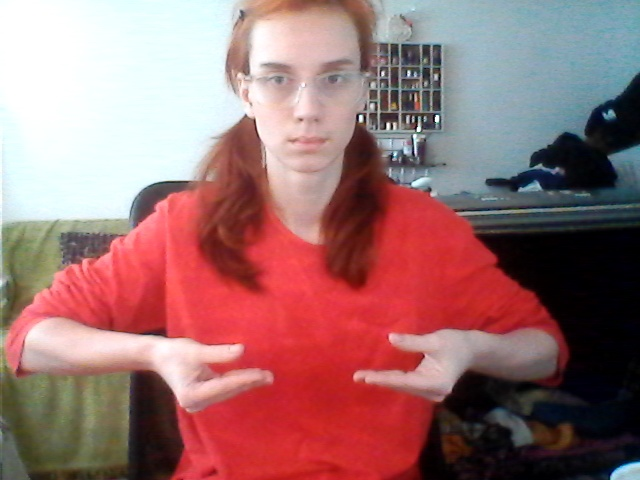drzat: (157, 312, 463, 414)
